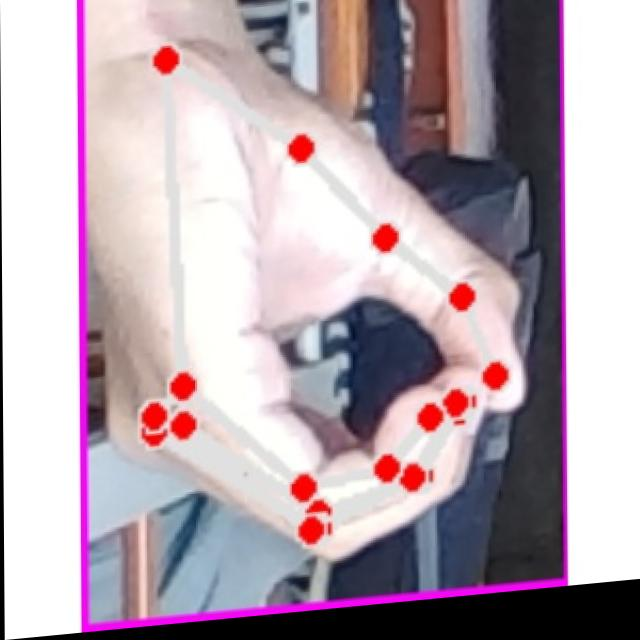O: (95, 4, 542, 591)
